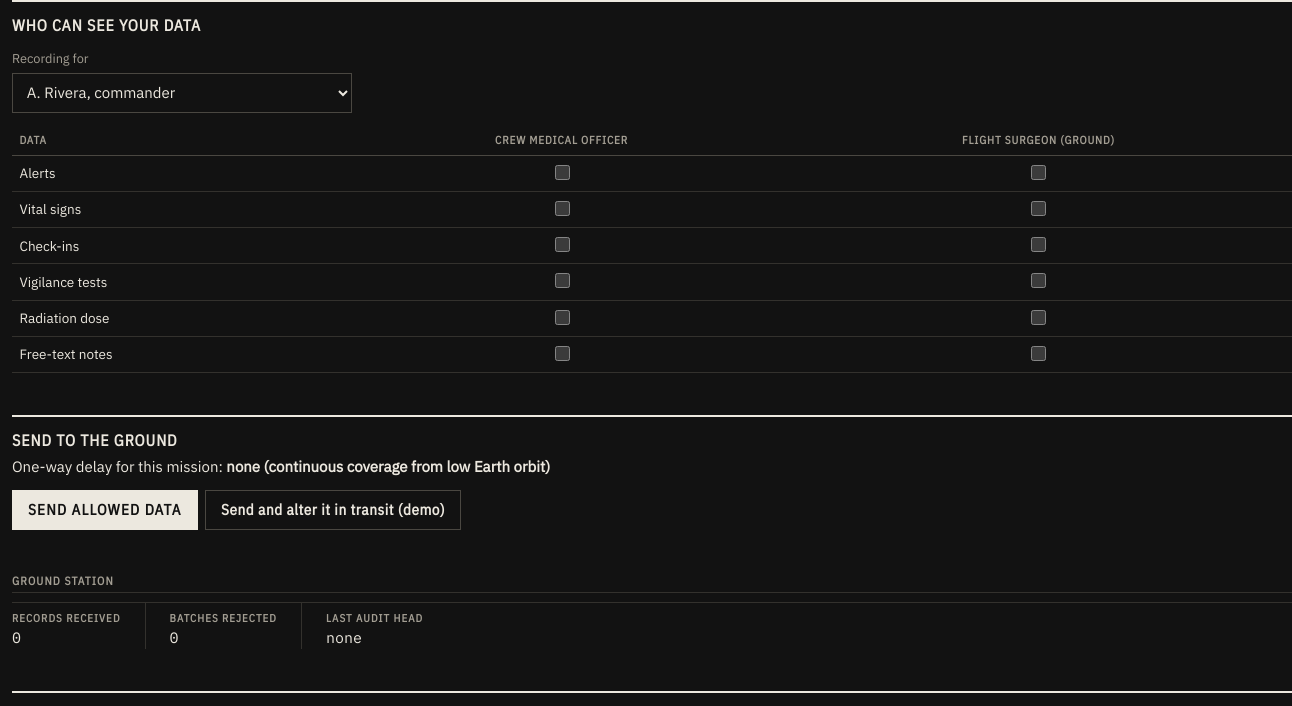
Test: privacy and sync › discards a batch altered in transit
This screenshot has width=1292, height=706.
Click the checkbox named "Share Check-ins with Flight surgeon (ground)": (1039, 245) [1031,237,1046,252]
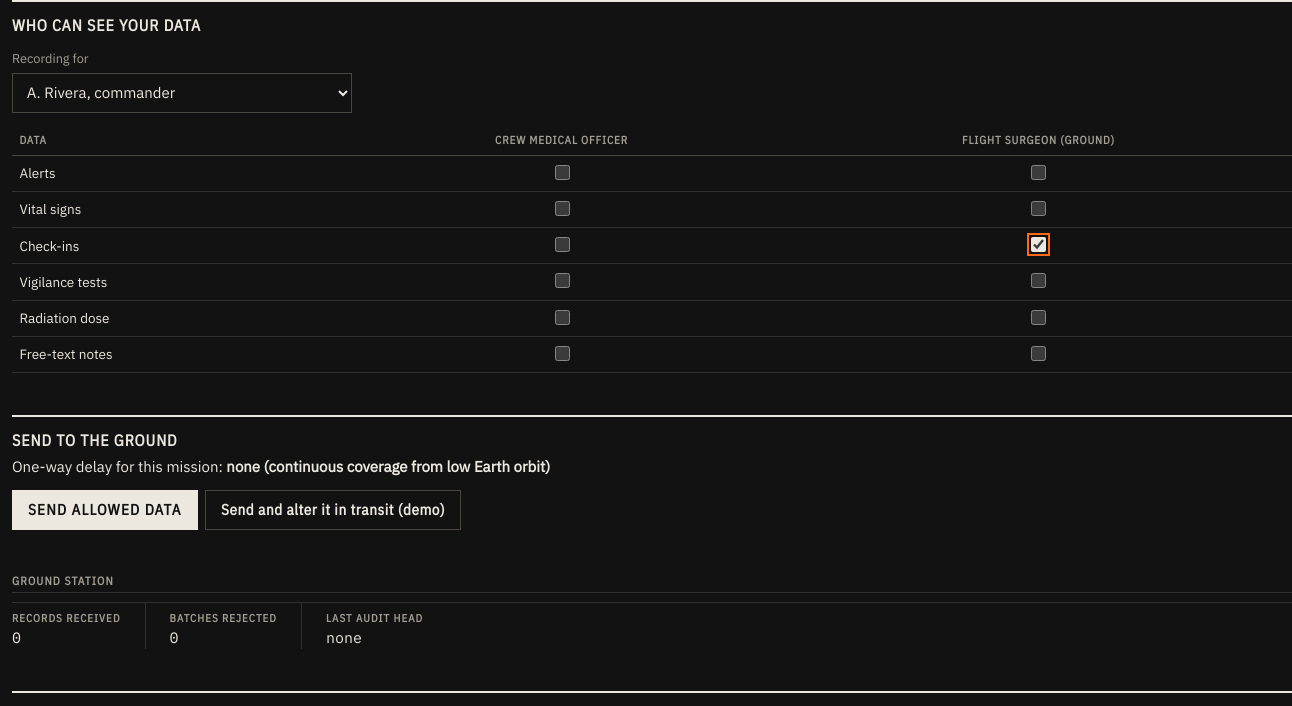
Click the button "Send and alter it in transit (demo)": (333, 510) [205,490,461,530]
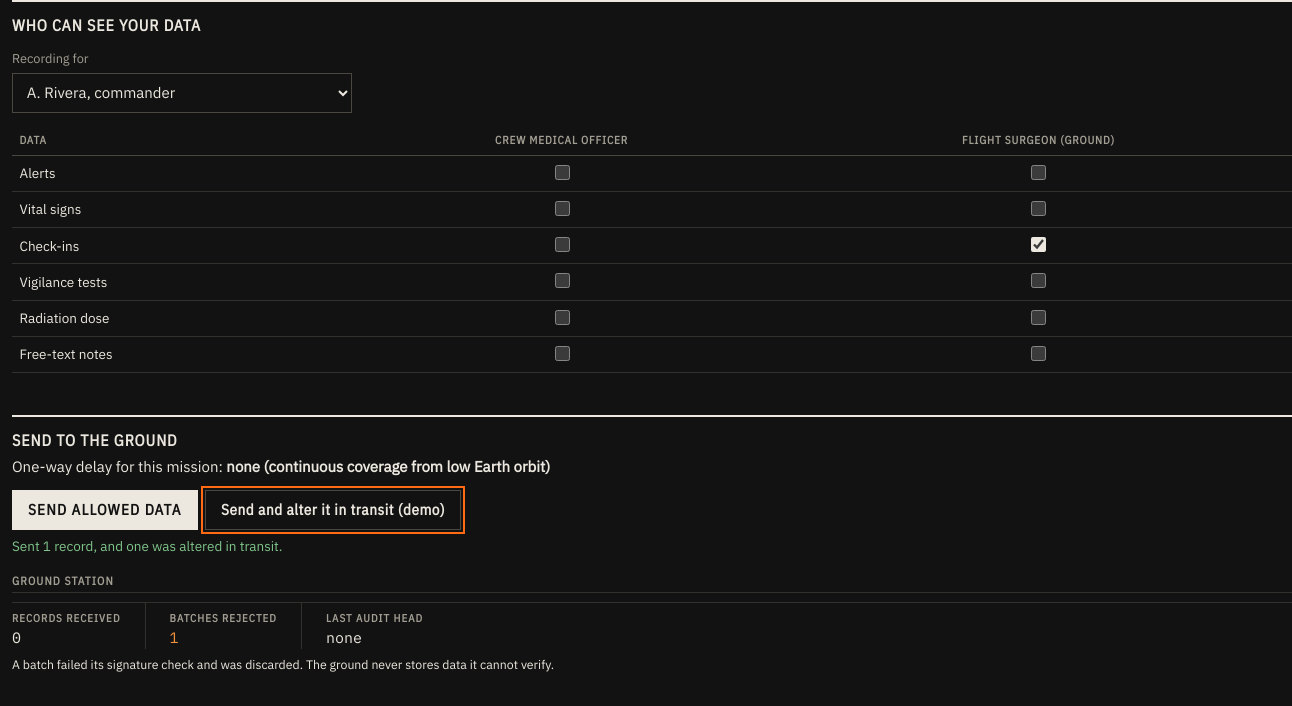
Expected: the text "0" is shown, [12,628,21,647]
Result: the text "1" is shown at [170,628,178,647]
Result: the text "failed its signature check and was discarded" is shown at [12,656,554,672]
